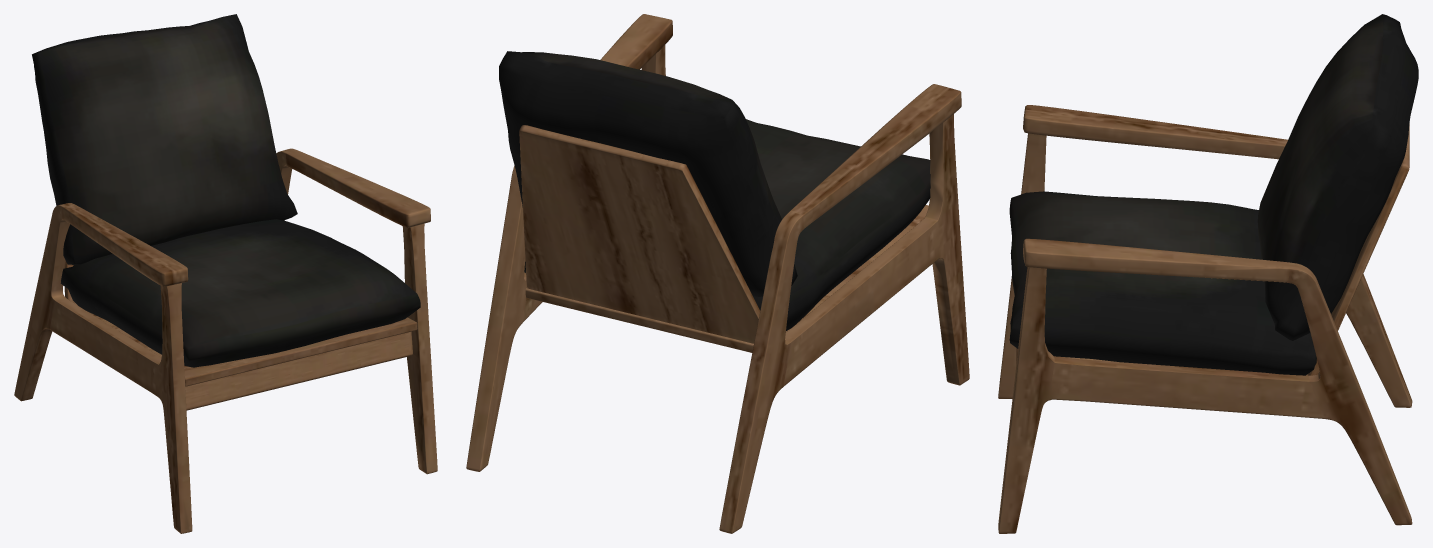
Rendered from modern_arm_chair_01.glb.
The picture shows the model from 3 angles, left to right: view 1: azimuth 30°, elevation 25°; view 2: azimuth 150°, elevation 25°; view 3: azimuth 270°, elevation 25°; orthographic projection. The views are drawn at different scales.
Parts seen in each view (by area): view 1: modern_arm_chair_01; view 2: modern_arm_chair_01; view 3: modern_arm_chair_01.
Boxes of the visible parts, left/top/right/bottom form: modern_arm_chair_01: left=14, top=14, right=437, bottom=533; modern_arm_chair_01: left=466, top=14, right=969, bottom=533; modern_arm_chair_01: left=998, top=14, right=1418, bottom=533.
Bounding box in the file's own units: 0.8203 × 1.02 × 0.9865.
2 materials, 2 textured.
